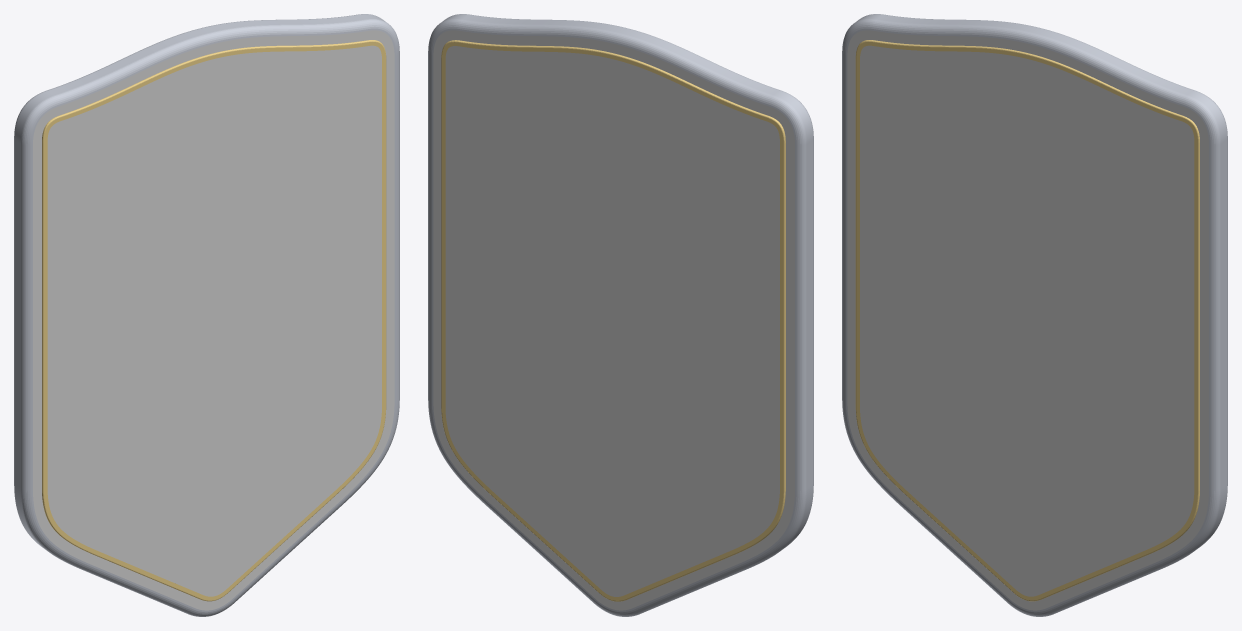
The model's file is carta.glb.
The picture shows the model from 3 angles, left to right: view 1: azimuth 30°, elevation 25°; view 2: azimuth 150°, elevation 25°; view 3: azimuth 330°, elevation 25°; orthographic projection.
Parts seen in each view (by area): view 1: corpo_carta, filete_frente; view 2: corpo_carta, filete_verso; view 3: corpo_carta, filete_frente.
Boxes of the visible parts, x1,y1,x2,y2 form: corpo_carta: [14, 14, 399, 616]; filete_frente: [42, 40, 386, 601]; corpo_carta: [428, 14, 813, 616]; filete_verso: [441, 40, 785, 601]; corpo_carta: [842, 14, 1227, 616]; filete_frente: [855, 40, 1199, 601].
Size of the model in its own units: 2.09 by 3.08 by 0.1539.
